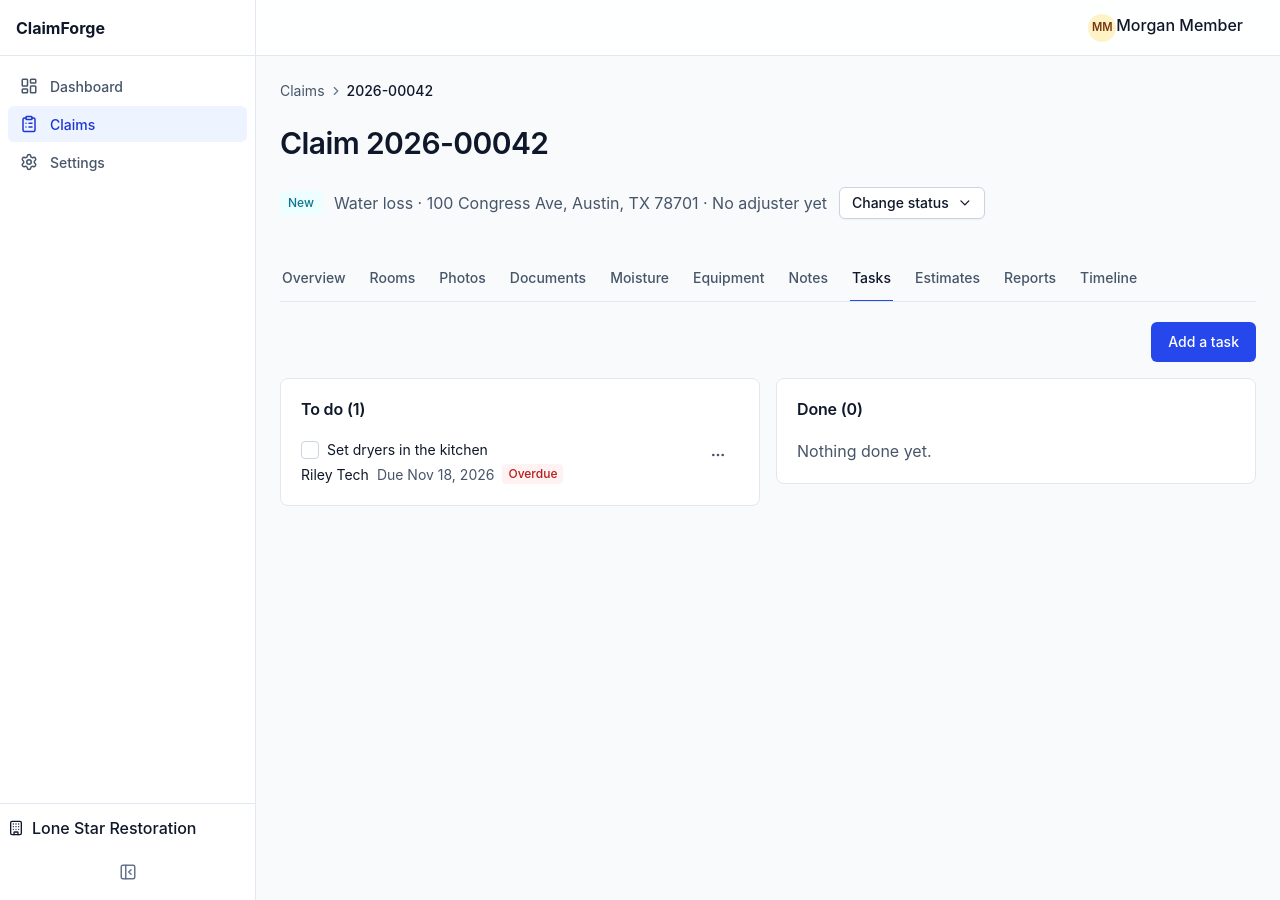
it: adding and changing tasks › only people who can do field work are offered, and a title is needed
Click the button "Add a task". click: point(1204, 342)
box: [1151,322,1256,362]
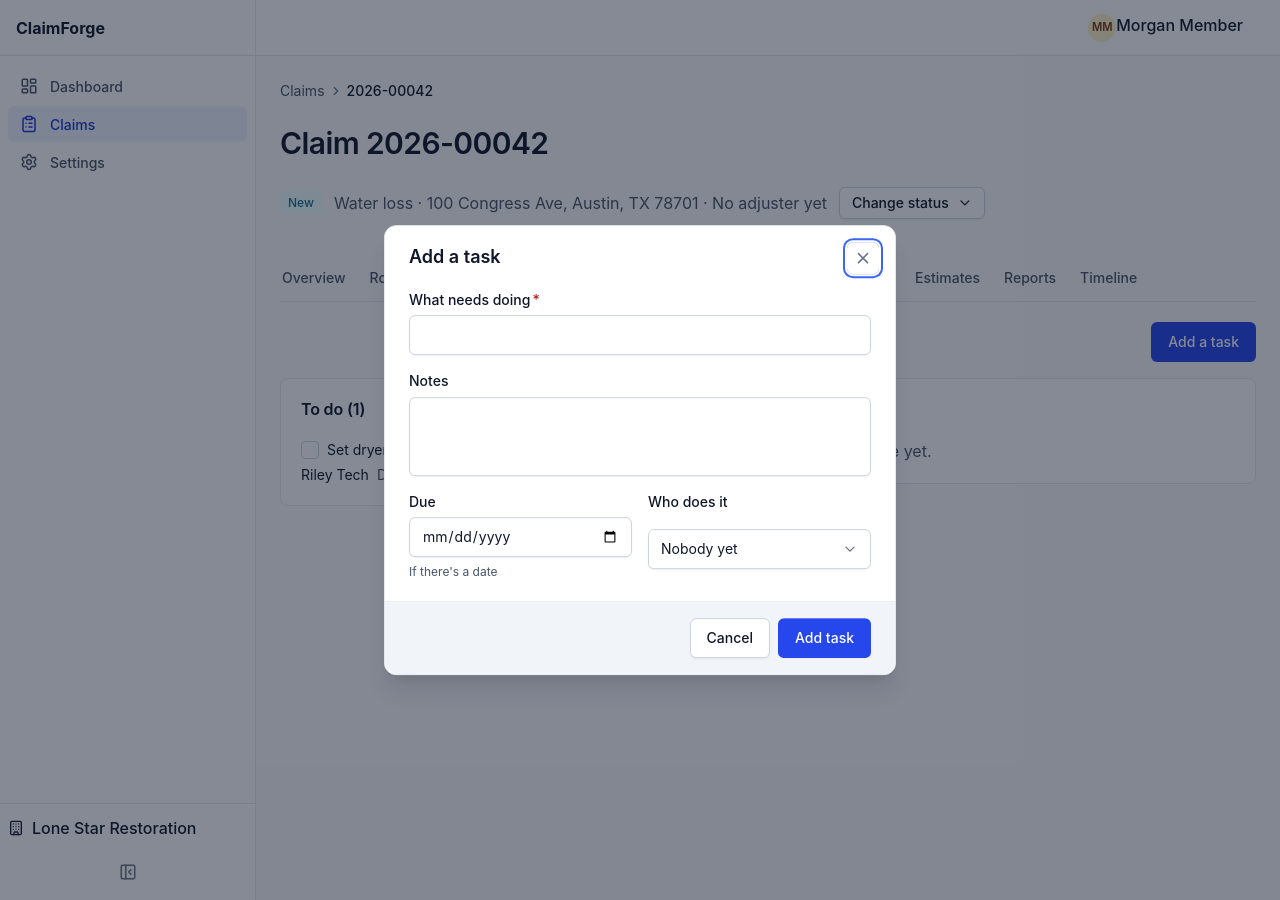
Click the dropdown named "Who does it". click: point(760, 549)
box: [648,529,871,569]
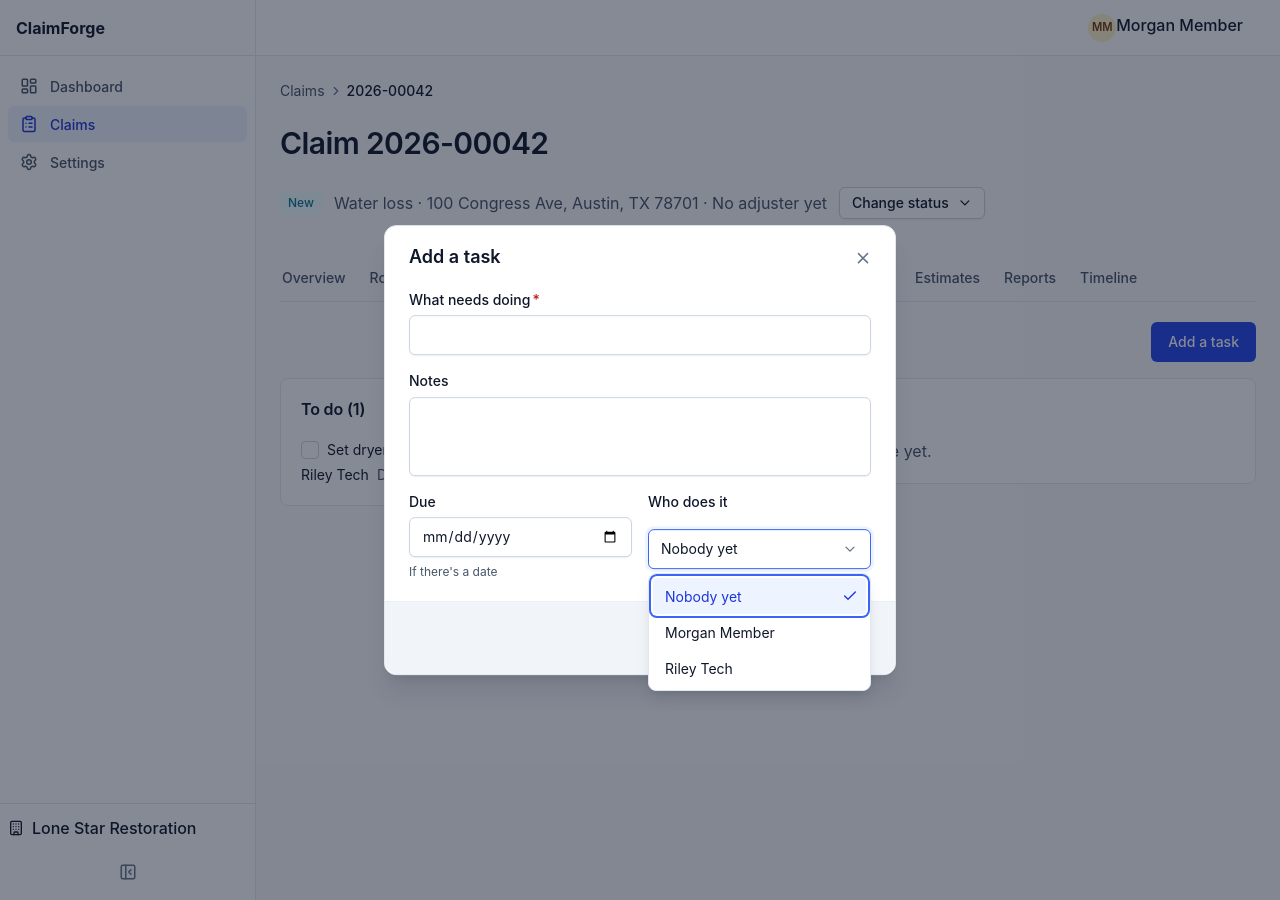
Expected: the options read "Nobody yet", "Morgan Member", "Riley Tech", in this order, [653,578,866,614]; [665,624,775,640]; [665,660,733,676]
Press Escape
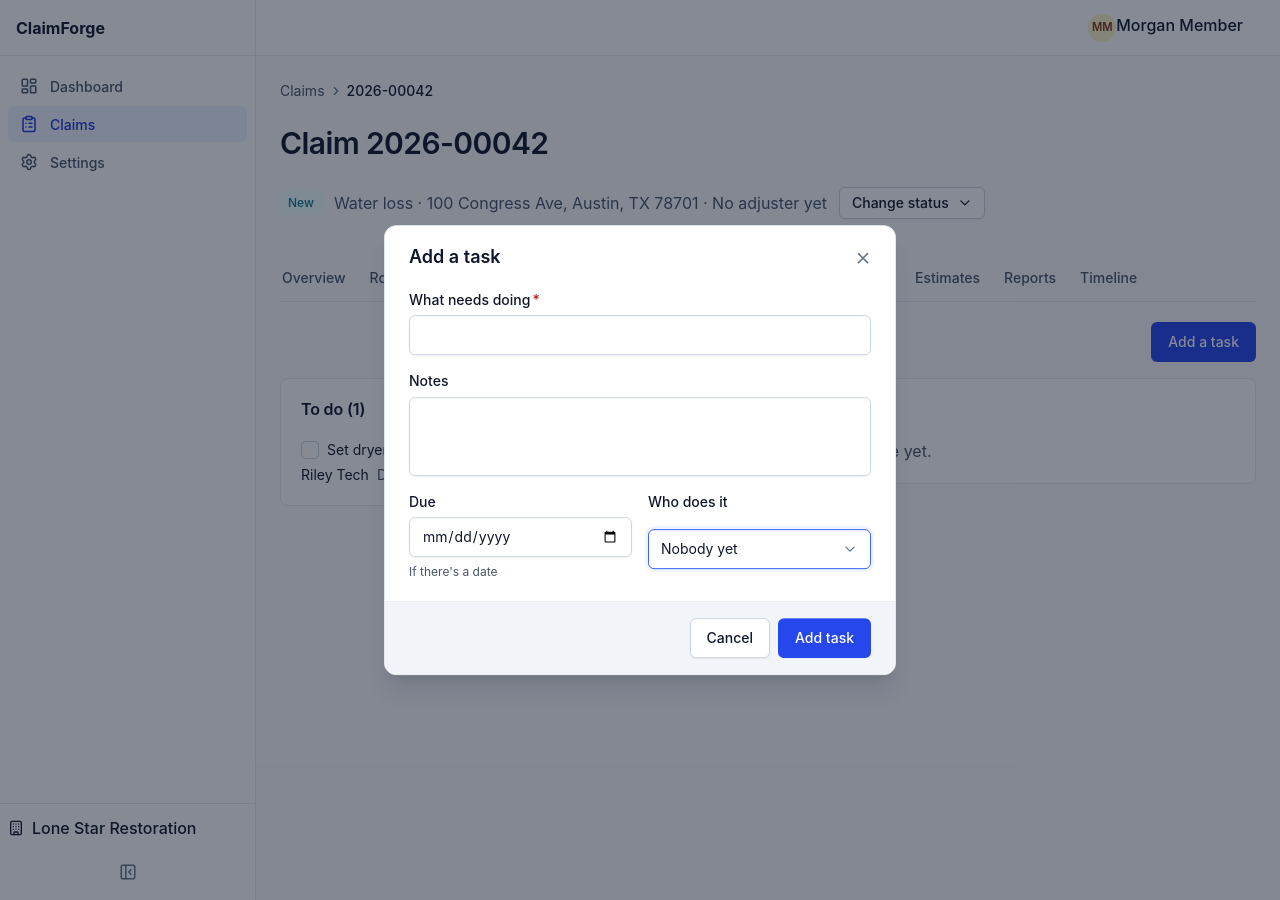
Click the button "Add task". click: point(824, 638)
box: [778,618,871,658]
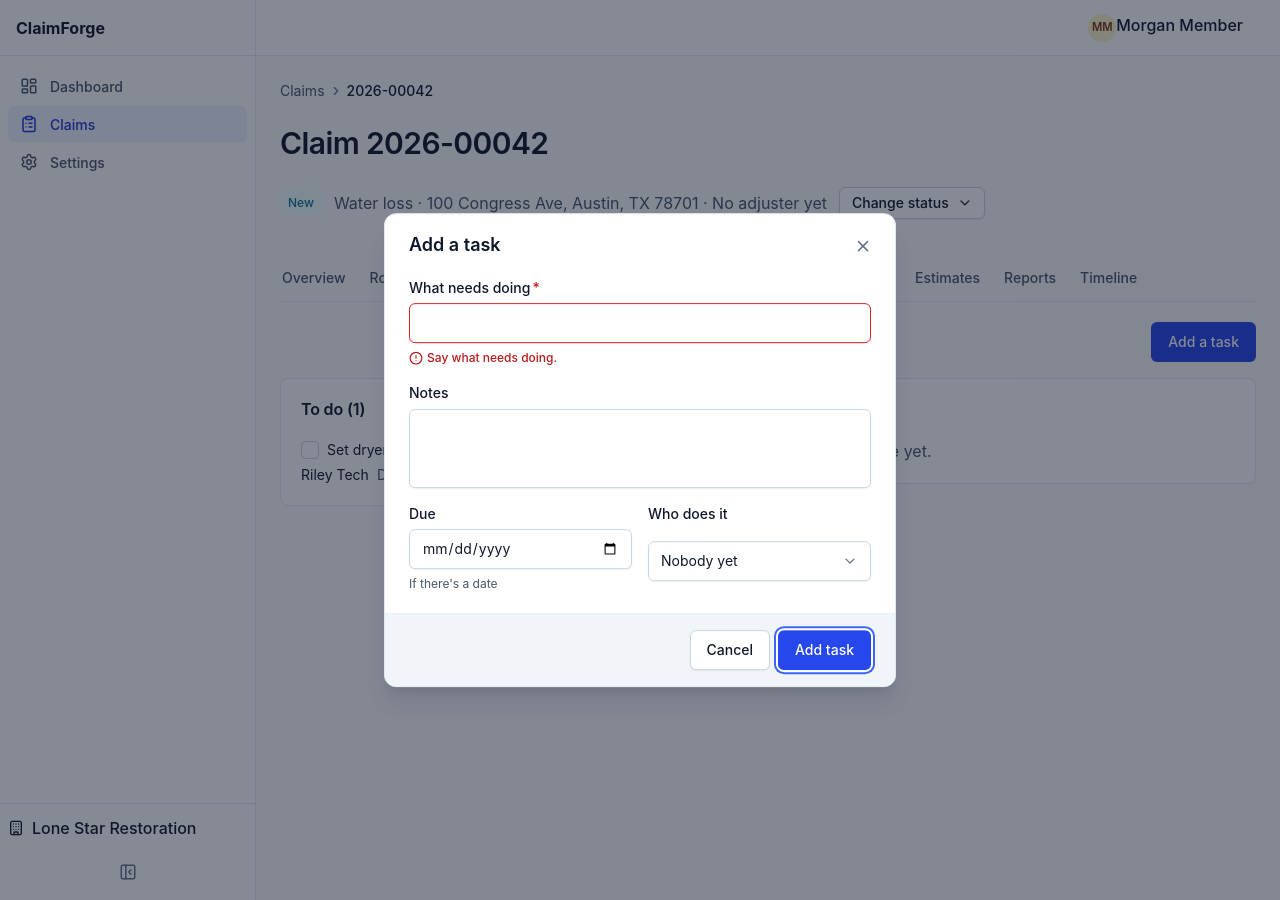
Expected: the text "Say what needs doing." is shown, [427,349,557,367]
